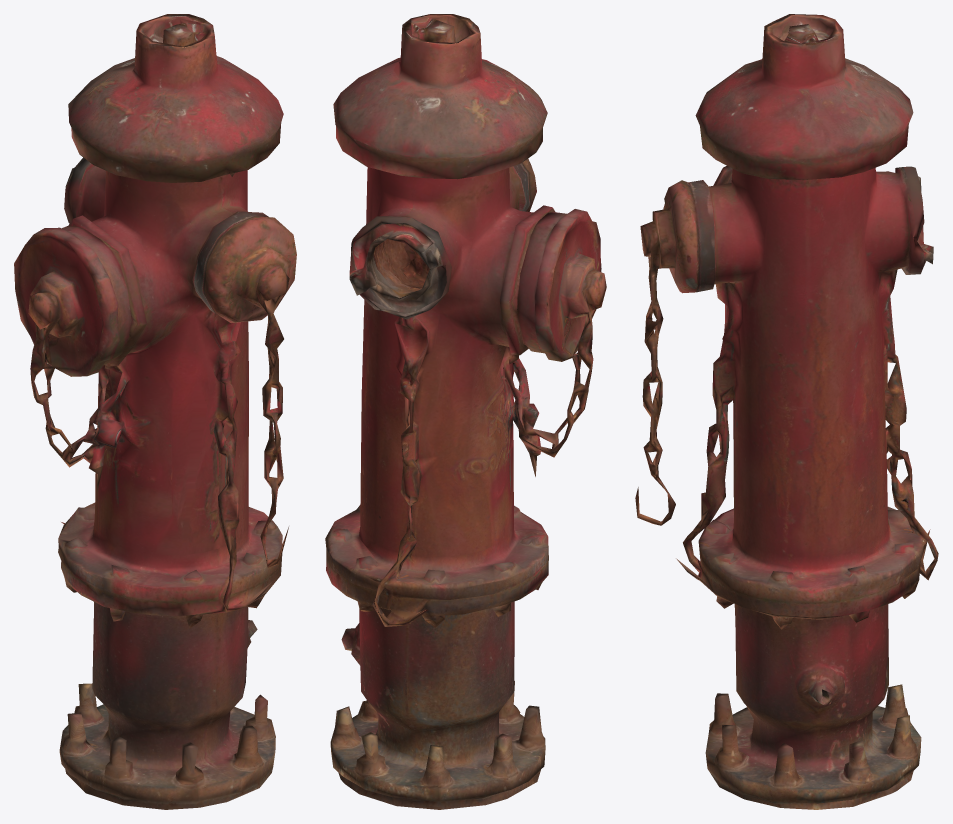
Rendered from PX_Fire_Hydrant_01_LOD5.fbx.
3 renders of one model, left to right at view 1: azimuth 30°, elevation 25°; view 2: azimuth 150°, elevation 25°; view 3: azimuth 270°, elevation 25°, orthographic.
Visible parts, largest first — view 1: PX_Fire_Hydrant_01_LOD5; view 2: PX_Fire_Hydrant_01_LOD5; view 3: PX_Fire_Hydrant_01_LOD5.
Boxes of the visible parts, left/top/right/bottom form: PX_Fire_Hydrant_01_LOD5: left=14, top=14, right=296, bottom=809; PX_Fire_Hydrant_01_LOD5: left=325, top=14, right=606, bottom=809; PX_Fire_Hydrant_01_LOD5: left=635, top=14, right=938, bottom=809.
Bounding box in the file's own units: 27.58 × 77.88 × 28.97.
